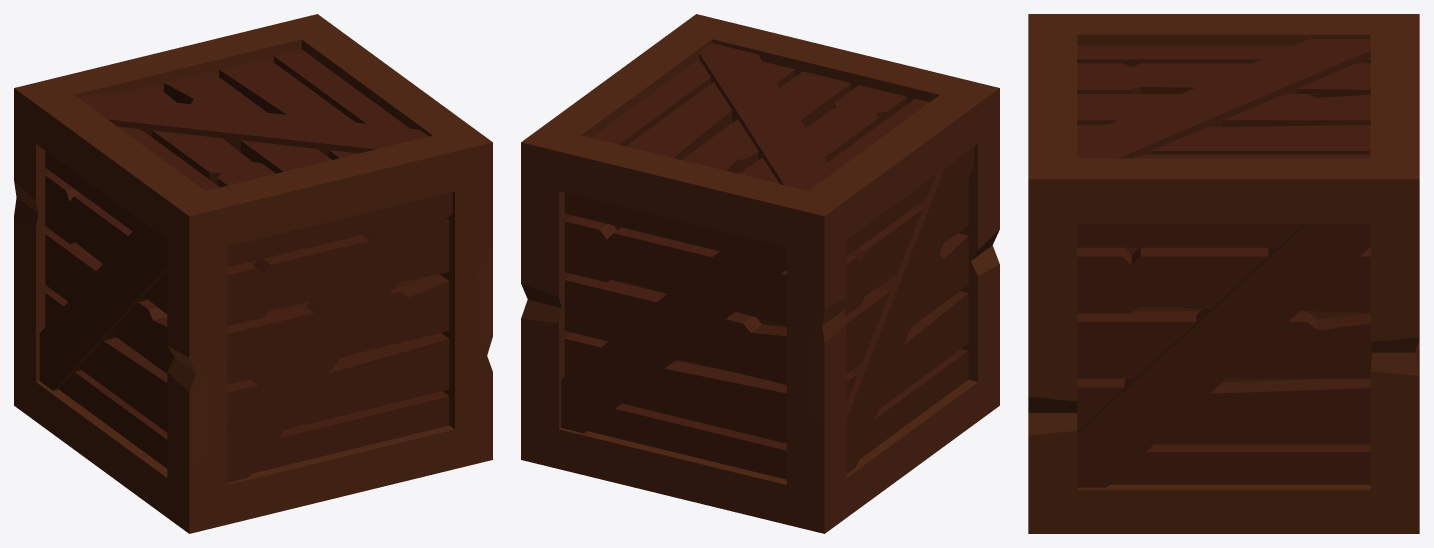
The model's file is Crate.obj.
The picture shows the model from 3 angles, left to right: view 1: azimuth 30°, elevation 25°; view 2: azimuth 150°, elevation 25°; view 3: azimuth 270°, elevation 25°; orthographic projection. The views are drawn at different scales.
Parts seen in each view (by area): view 1: Crate_Cube.021; view 2: Crate_Cube.021; view 3: Crate_Cube.021.
Part boxes in pixels (x1,y1,x2,y2): Crate_Cube.021: [14, 14, 492, 533]; Crate_Cube.021: [521, 14, 999, 533]; Crate_Cube.021: [1028, 14, 1419, 533].
Bounding box in the file's own units: 1 × 1 × 1.
